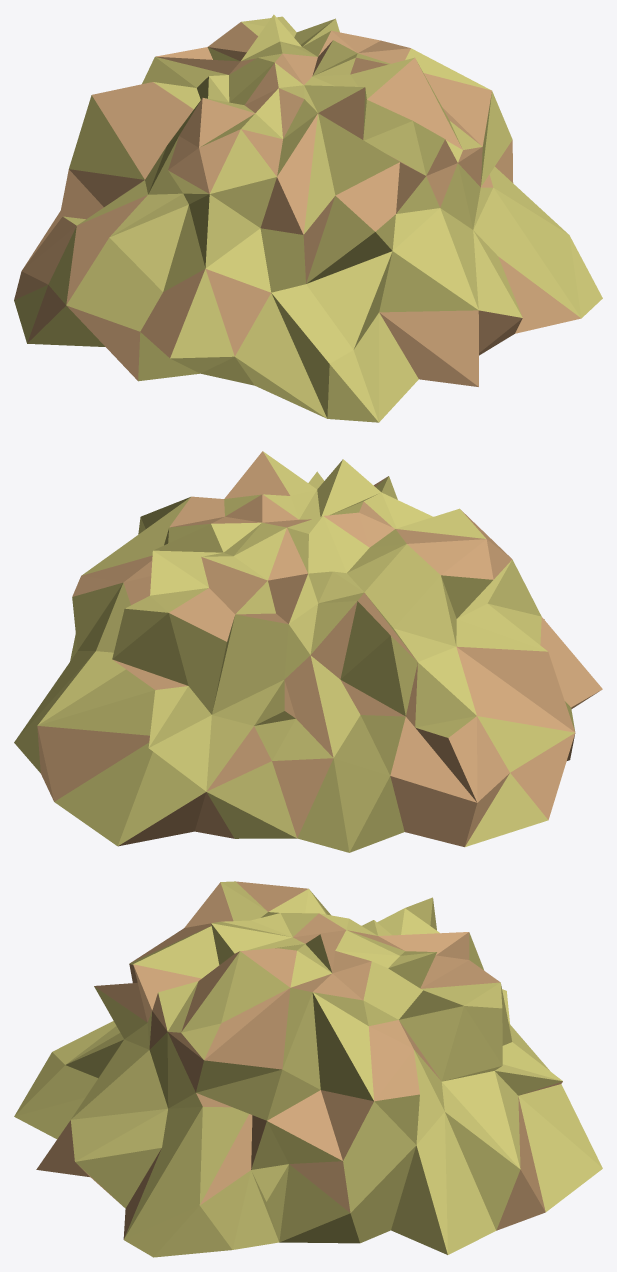
Rendered from Hay_mat.fbx.
3 renders of one model, top to bottom at view 1: azimuth 30°, elevation 25°; view 2: azimuth 150°, elevation 25°; view 3: azimuth 270°, elevation 25°, orthographic. The views are drawn at different scales.
Parts seen in each view (by area): view 1: Hay_mat; view 2: Hay_mat; view 3: Hay_mat.
Part boxes in pixels (x1,y1,x2,y2): Hay_mat: (14, 14, 602, 422); Hay_mat: (14, 451, 602, 852); Hay_mat: (14, 881, 602, 1257).
Size of the model in its own units: 1.23 by 0.6001 by 1.35.
